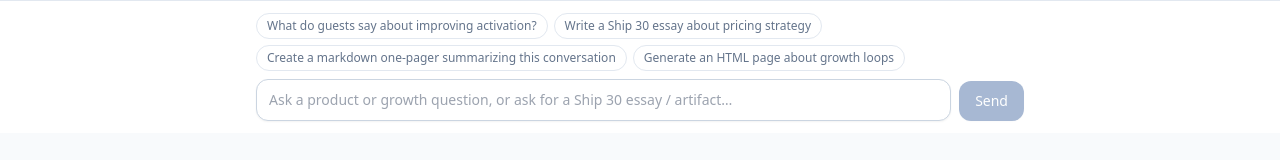
Test: Composer › clicking a suggestion fills the composer
Click the list item "Write a Ship 30 essay about pricing strategy" at (688, 26), box [554, 13, 822, 39]
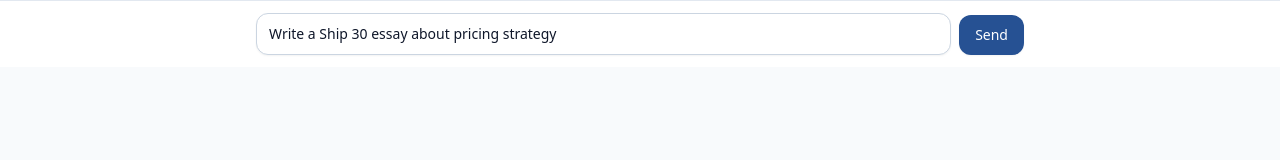
Check: the text box named "Message" holds "Write a Ship 30 essay about pricing strategy", box [256, 13, 951, 55]
